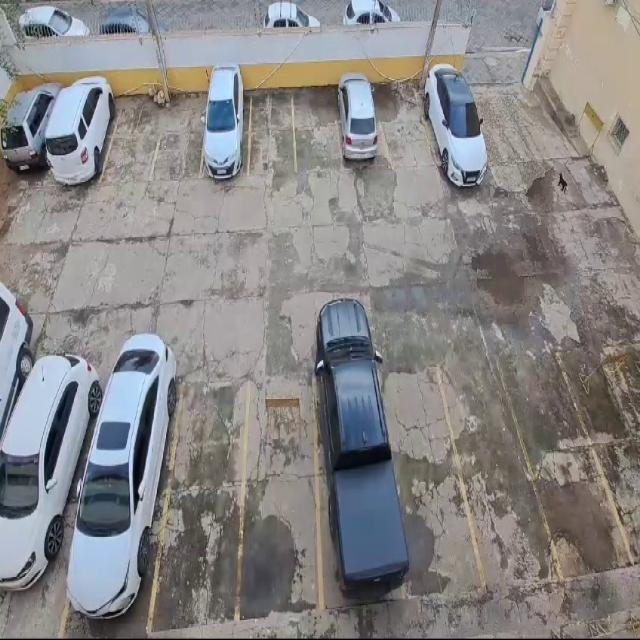empty: (499, 353, 633, 575), (436, 360, 564, 587), (147, 384, 249, 628), (378, 367, 485, 596), (237, 384, 322, 617), (100, 96, 169, 184), (374, 82, 436, 170), (152, 89, 209, 178), (292, 85, 343, 177), (249, 88, 295, 179)
notEmpty: (60, 398, 182, 634), (1, 374, 108, 635), (316, 373, 404, 604), (48, 97, 125, 185), (418, 81, 487, 171), (335, 84, 392, 173), (202, 89, 252, 182), (10, 98, 66, 180)
